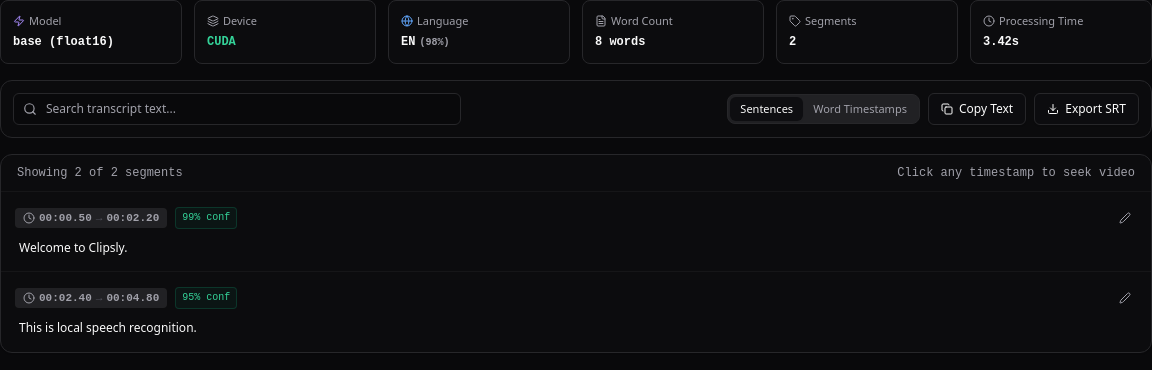
Test: Phase 15: Faster-Whisper Speech-to-Text Pipeline (Frontend) › 14. search input filters segments in real time
The width and height of the screenshot is (1152, 370).
Step 1. Type "recognition" into the field with test id "transcript-search-input" → x=237, y=108, box [13,92,461,124]
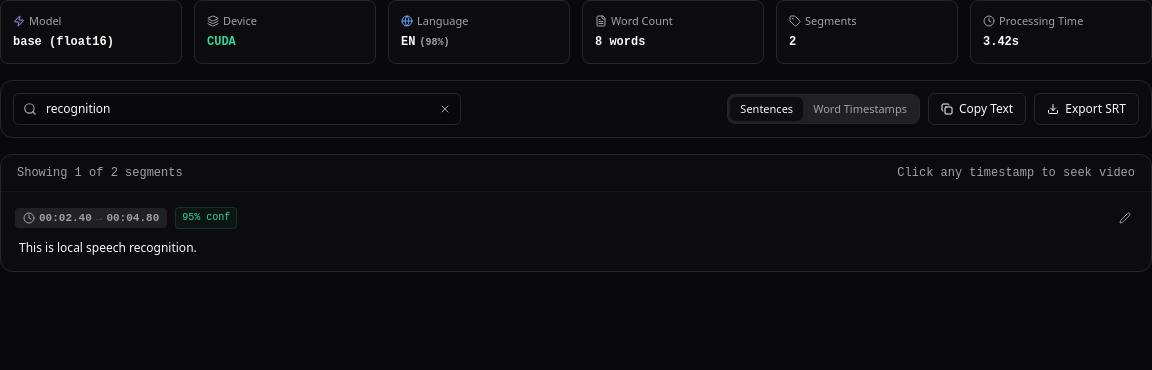
Expected: the text "This is local speech recognition." is shown, [19,238,197,256]
Now the text "Welcome to Clipsly." is gone
